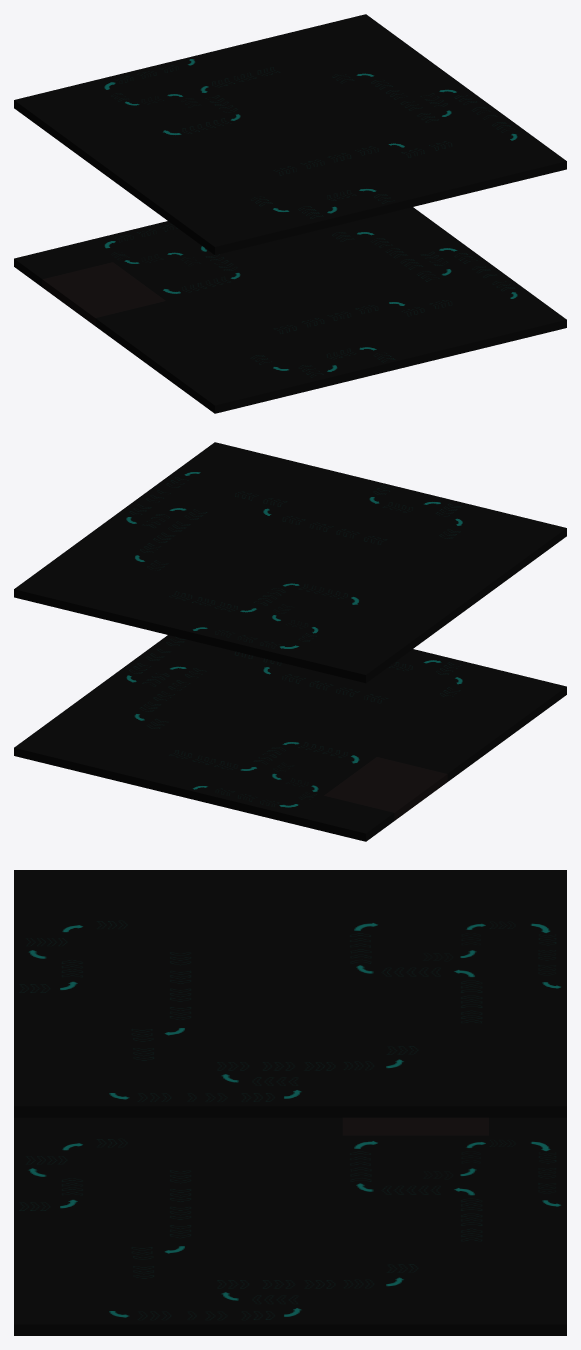
File: fbx_techo_piso.fbx
The picture shows the model from 3 angles, top to bottom: view 1: azimuth 30°, elevation 25°; view 2: azimuth 150°, elevation 25°; view 3: azimuth 270°, elevation 25°; orthographic projection. The views are drawn at different scales.
Visible parts, largest first — view 1: pCube13, pCube10; view 2: pCube13, pCube10; view 3: pCube13, pCube10.
Boxes of the visible parts, bbox=[...] form: pCube13: bbox=[14, 14, 566, 255]; pCube10: bbox=[14, 207, 566, 413]; pCube13: bbox=[14, 442, 566, 683]; pCube10: bbox=[14, 635, 566, 841]; pCube13: bbox=[14, 870, 566, 1117]; pCube10: bbox=[14, 1117, 566, 1335].
Bounding box in the file's own units: 364 × 165 × 360.
6 materials, 1 textured.
